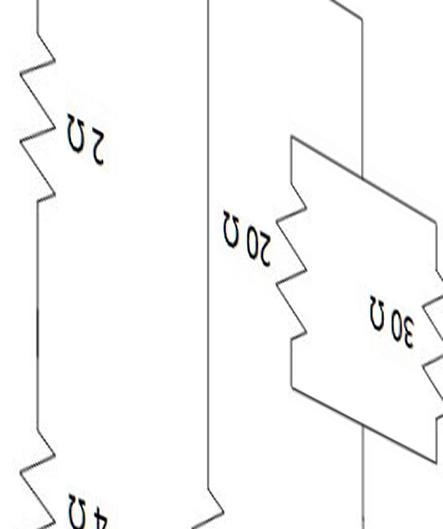resistor: (16, 20, 66, 204), (275, 178, 325, 355)
